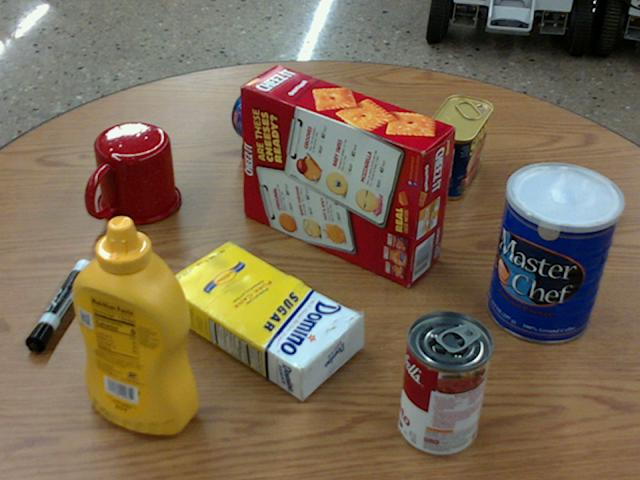cracker_box: (240, 66, 453, 286)
gelatin_box: (520, 172, 613, 247)
large_marker: (25, 258, 93, 349)
master_chef_can: (487, 162, 622, 343)
mug: (85, 123, 180, 224)
mustard_bottle: (70, 215, 195, 432)
potted_meat_can: (423, 94, 493, 198)
sugar_box: (160, 239, 363, 400)
tomato_soup_can: (398, 311, 492, 456)
tuna_fish_can: (230, 78, 303, 152)
